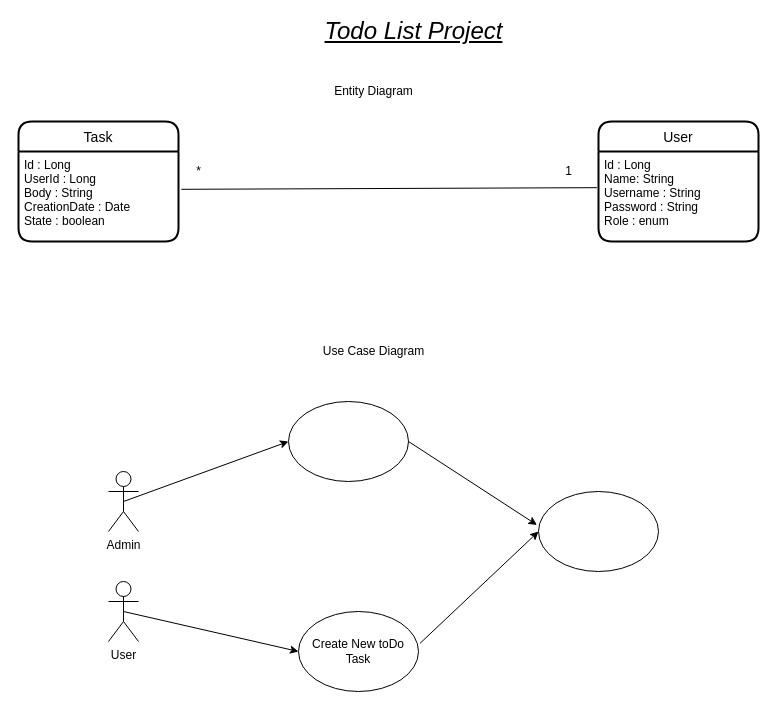
This 776x709 diagram has some shape labels left out. Each missing label, with the box of its shape:
Delete , Update , Create Tasks in Todo Post: (288, 400, 408, 482)
Login: (538, 490, 658, 572)
